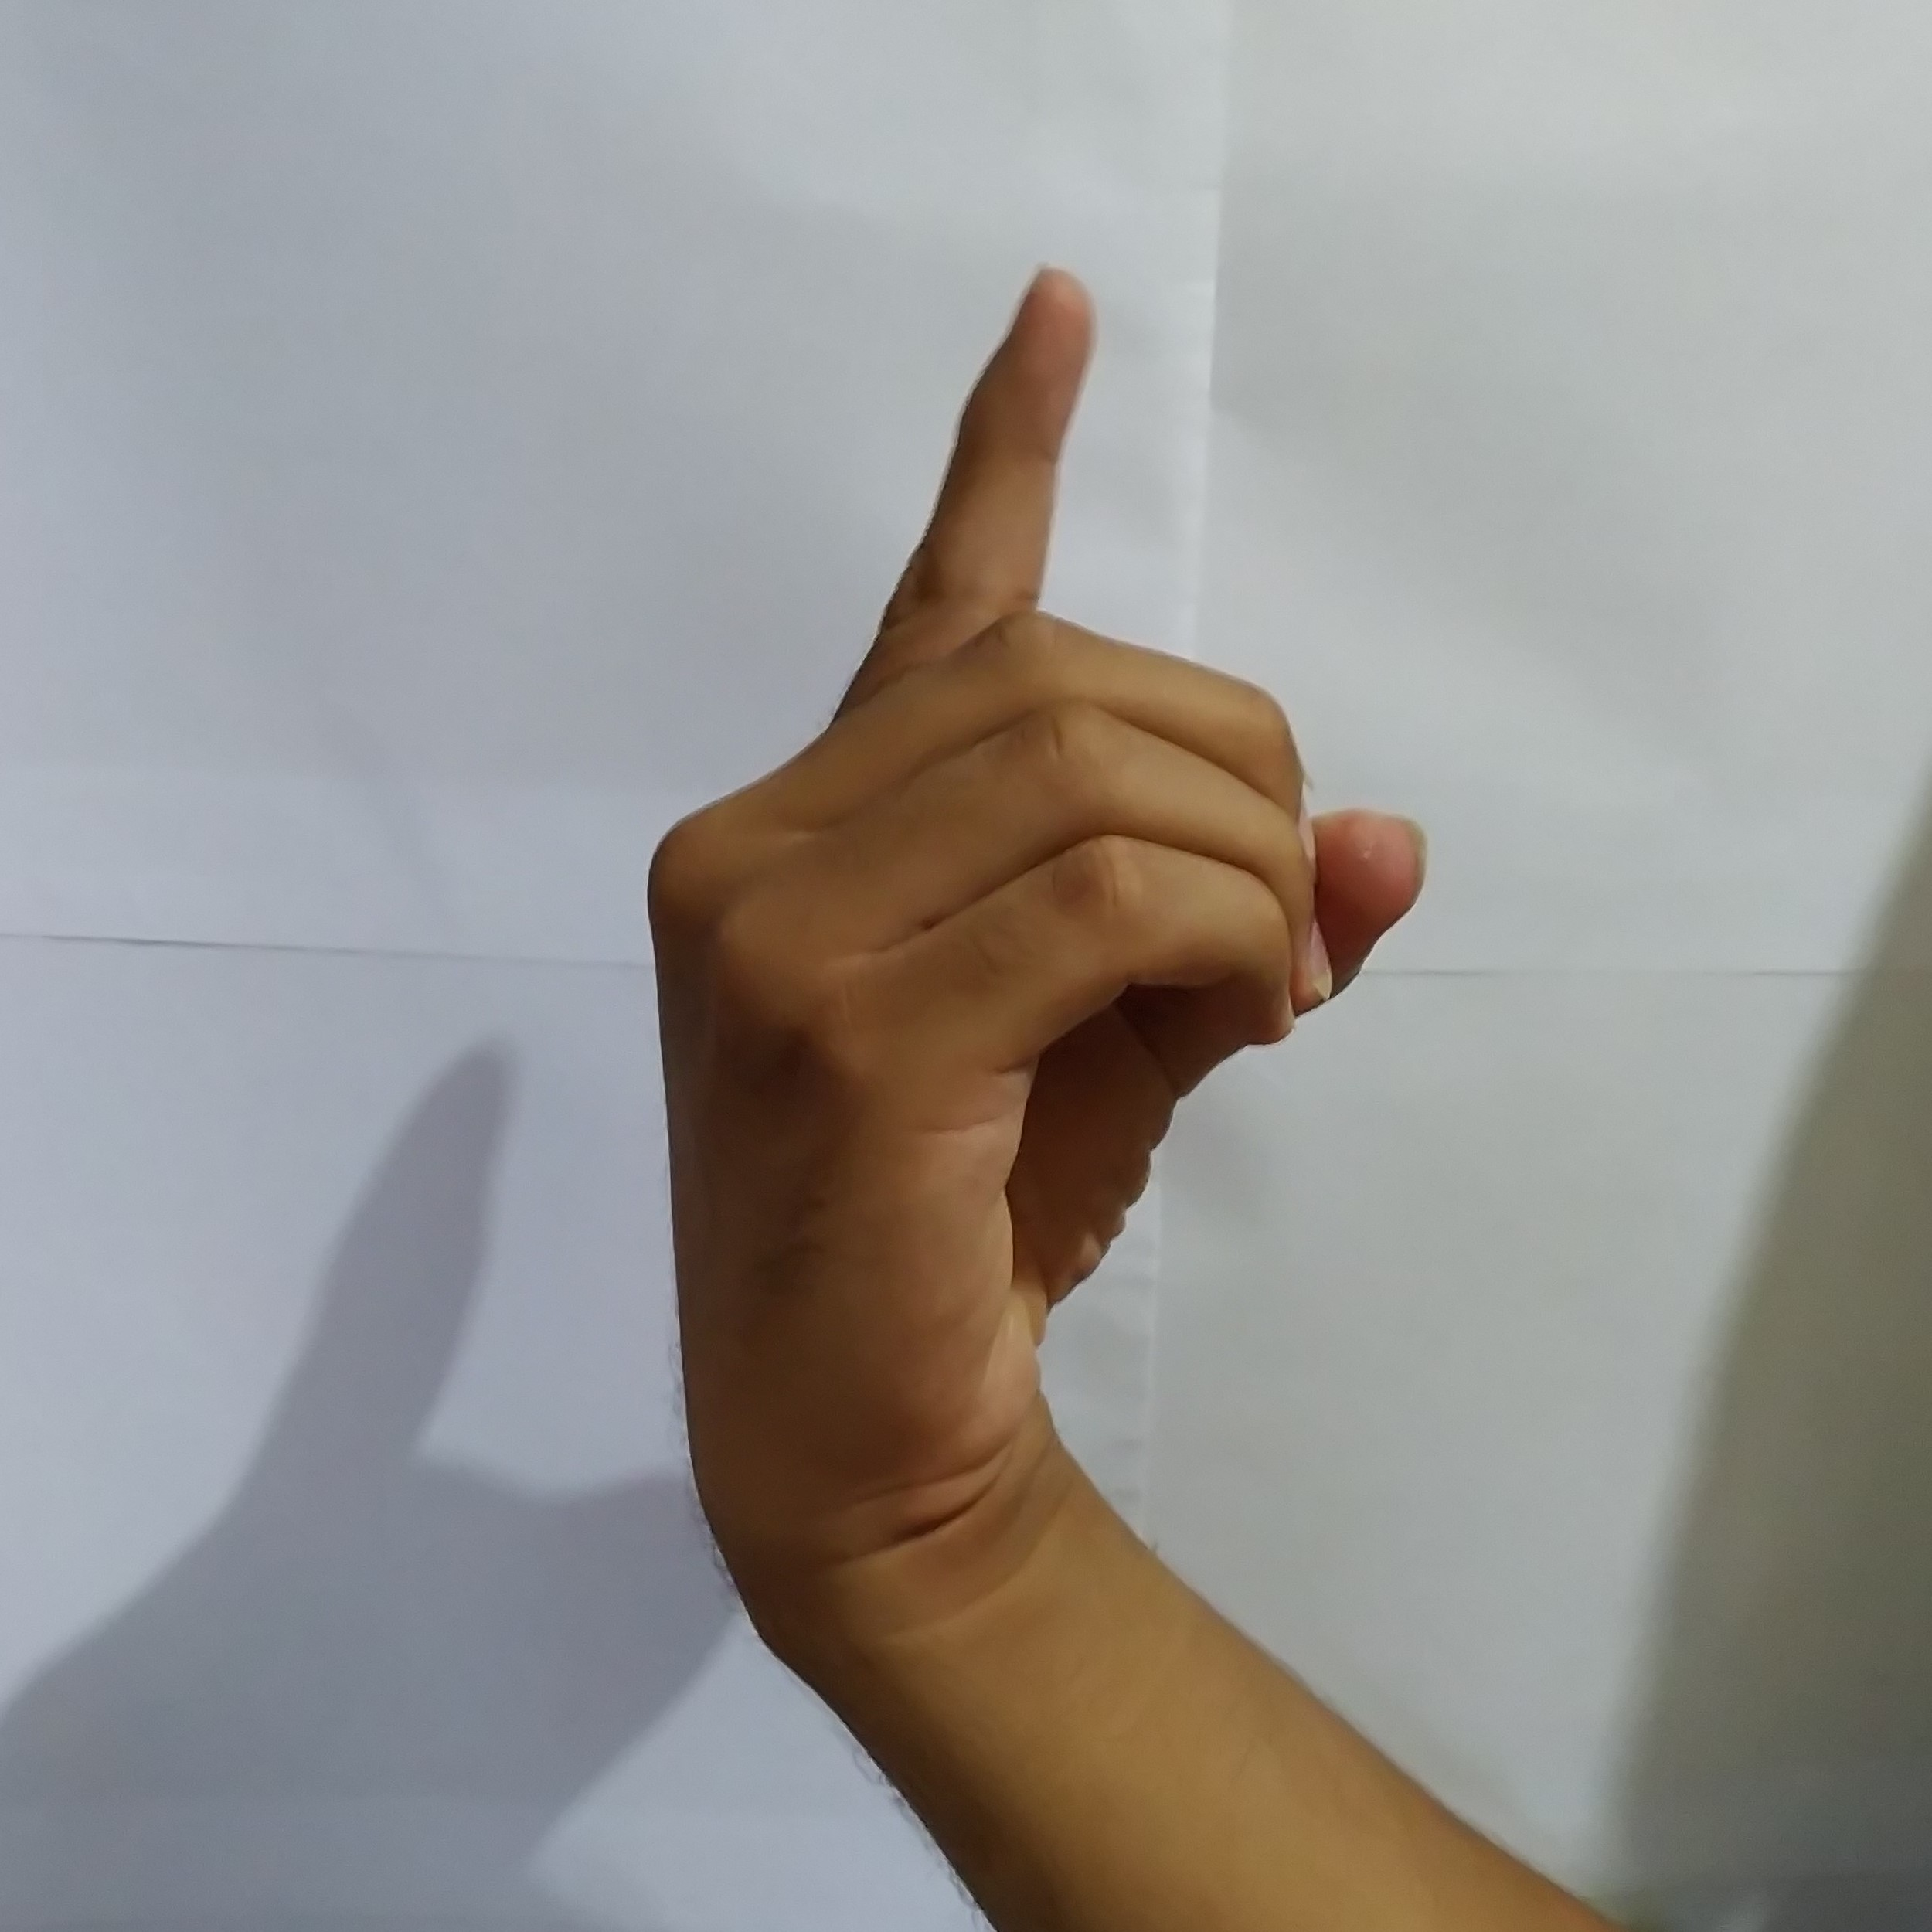D: (610, 244, 1454, 1458)
